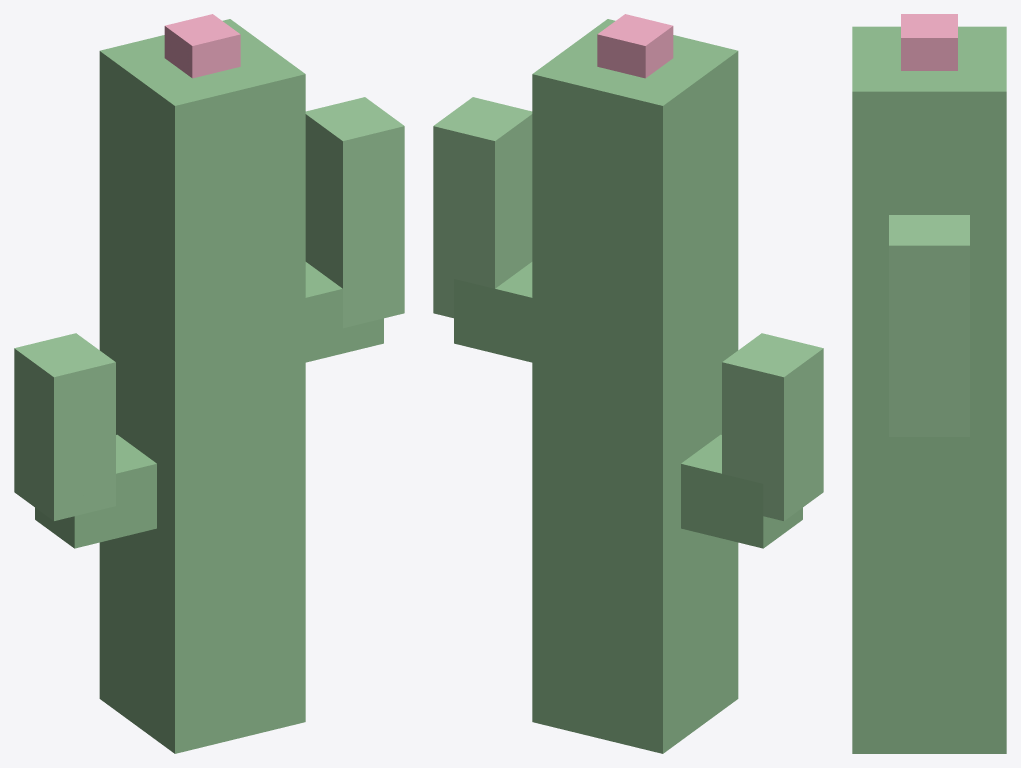
The model's file is Cactus.fbx.
3 renders of one model, left to right at view 1: azimuth 30°, elevation 25°; view 2: azimuth 150°, elevation 25°; view 3: azimuth 270°, elevation 25°, orthographic. The views are drawn at different scales.
Visible parts, largest first — view 1: Cactus, CactusArm.001, CactusArm.003, CactusArm.002, CactusArm, CactusFlower; view 2: Cactus, CactusArm.001, CactusArm.003, CactusArm.002, CactusArm, CactusFlower; view 3: Cactus, CactusArm.001, CactusFlower, CactusArm.
Boxes of the visible parts, x1,y1,x2,y2 form: Cactus: (99, 19, 305, 753); CactusArm.001: (305, 97, 404, 328); CactusArm.003: (14, 333, 115, 520); CactusArm.002: (35, 434, 156, 548); CactusArm: (305, 262, 383, 362); CactusFlower: (164, 14, 240, 78); Cactus: (532, 19, 738, 753); CactusArm.001: (433, 97, 532, 318); CactusArm.003: (722, 333, 823, 520); CactusArm.002: (681, 434, 802, 548); CactusArm: (454, 262, 532, 362); CactusFlower: (597, 14, 673, 78); Cactus: (852, 26, 1006, 753); CactusArm.001: (889, 215, 969, 436); CactusFlower: (901, 14, 957, 70); CactusArm: (889, 437, 969, 452).
Size of the model in its own units: 143 by 265 by 53.2.
